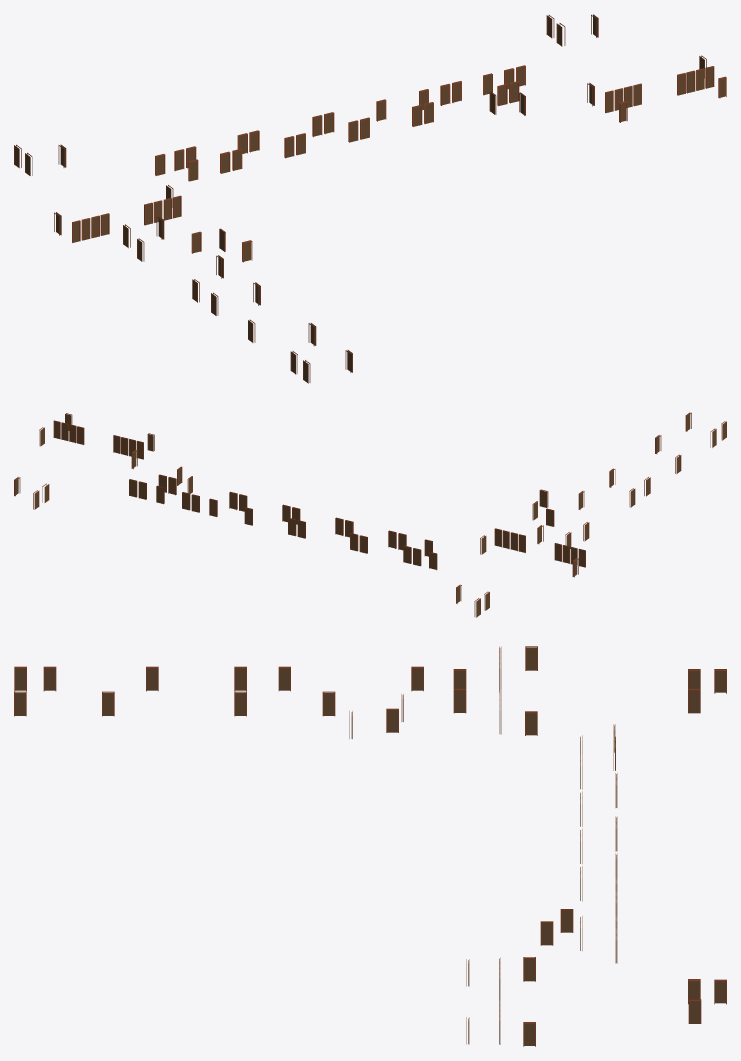
Rendered from insaat_revit.ifc.ifc.ifc.ifc_101.0 Ulaştırma + Lab_IfcDoor.dae.
3 views of the same model, one above another, from view 1: azimuth 30°, elevation 25°; view 2: azimuth 150°, elevation 25°; view 3: azimuth 270°, elevation 25° (orthographic). The views are drawn at different scales.
Size of the model in its own units: 72.82 by 58.17 by 2.21.
